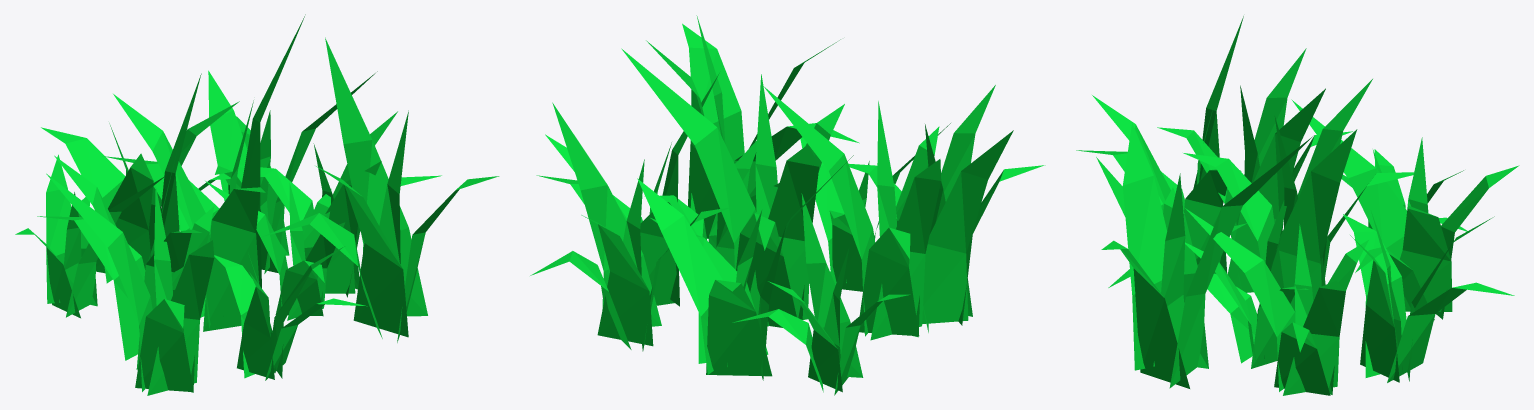
The model's file is grass_tile.glb.
The picture shows the model from 3 angles, left to right: view 1: azimuth 30°, elevation 25°; view 2: azimuth 150°, elevation 25°; view 3: azimuth 270°, elevation 25°; orthographic projection. The views are drawn at different scales.
Parts seen in each view (by area): view 1: grass_tile_joined; view 2: grass_tile_joined; view 3: grass_tile_joined.
Boxes of the visible parts, x1,y1,x2,y2 form: grass_tile_joined: (15,14,499,395); grass_tile_joined: (530,15,1045,395); grass_tile_joined: (1076,16,1519,395).
Bounding box in the file's own units: 2.92 × 1.73 × 2.61.
